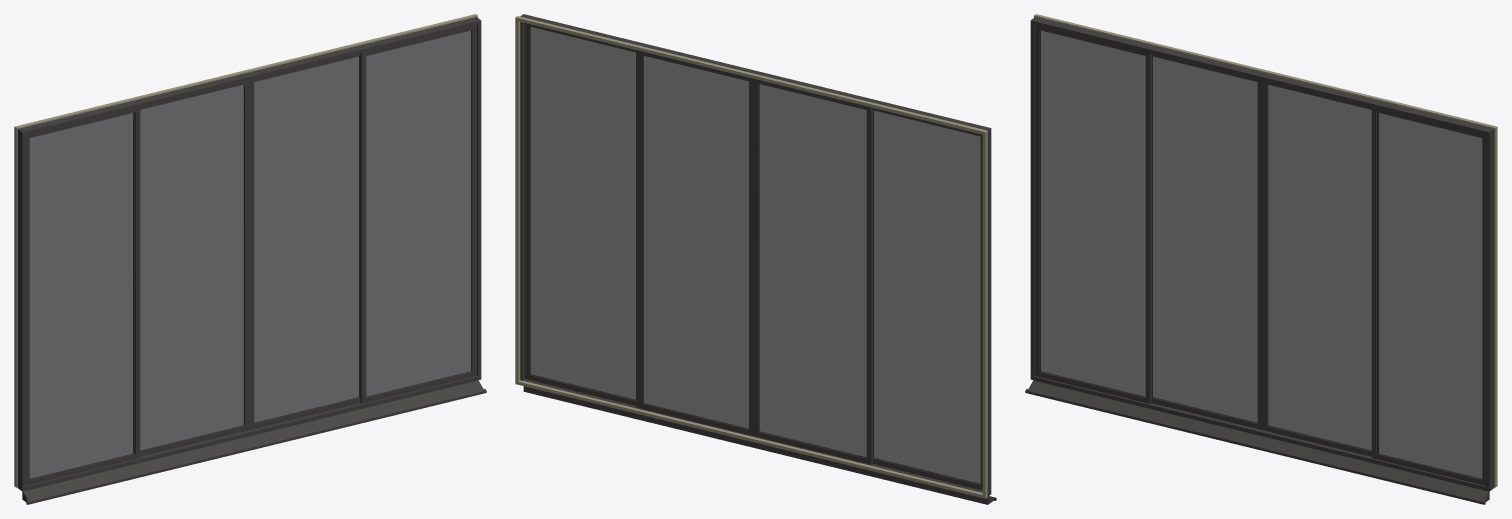
File: window2.FBX
3 renders of one model, left to right at view 1: azimuth 30°, elevation 25°; view 2: azimuth 150°, elevation 25°; view 3: azimuth 330°, elevation 25°, orthographic.
Visible parts, largest first — view 1: 50:2:4; view 2: 50:2:4; view 3: 50:2:4.
Boxes of the visible parts, x1,y1,x2,y2 form: 50:2:4: (14,14,486,504); 50:2:4: (515,14,996,504); 50:2:4: (1025,14,1497,504).
Size of the model in its own units: 156 by 119 by 6.89.
